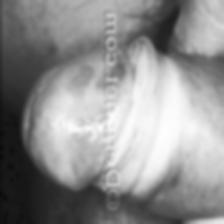Toxin: (60, 130, 96, 186), (65, 47, 89, 102)
